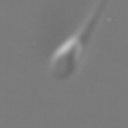abnormal: (68, 1, 115, 37)
